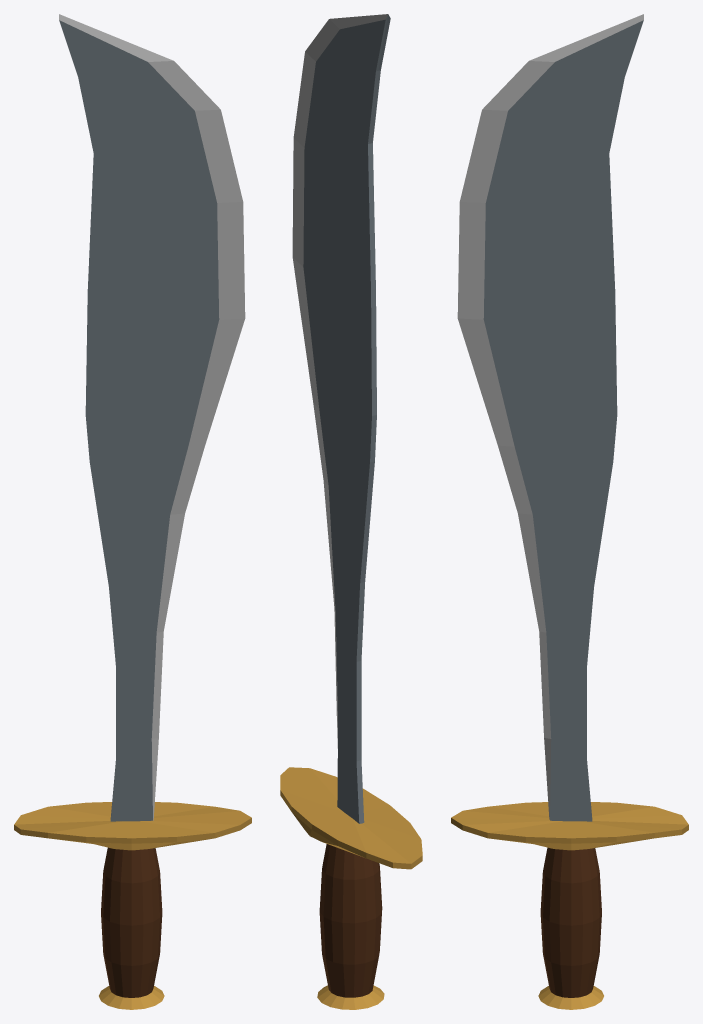
File: test sword.fbx
The picture shows the model from 3 angles, left to right: view 1: azimuth 90°, elevation 25°; view 2: azimuth 210°, elevation 25°; view 3: azimuth 270°, elevation 25°; orthographic projection. The views are drawn at different scales.
Visible parts, largest first — view 1: Sword_L; view 2: Sword_L; view 3: Sword_L.
Part boxes in pixels (<box>): Sword_L: <box>14,14,251,1009</box>; Sword_L: <box>280,14,422,1009</box>; Sword_L: <box>451,14,688,1009</box>.
Size of the model in its own units: 7.77 by 91.79 by 19.98.
